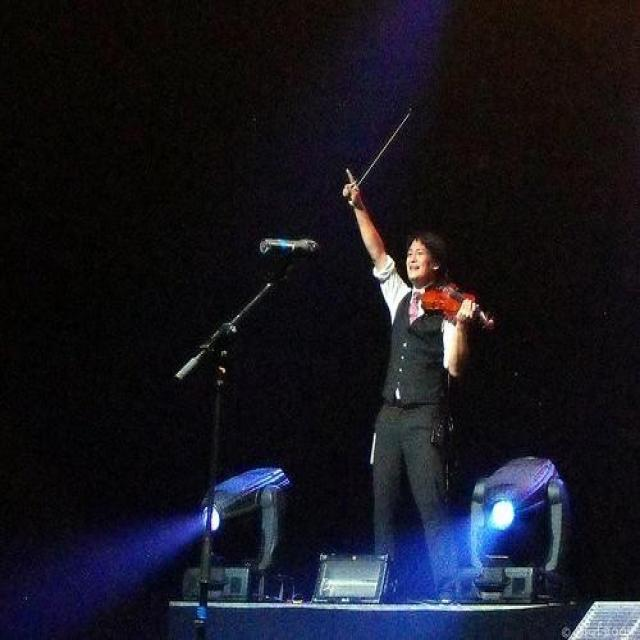violin: (422, 279, 500, 332)
